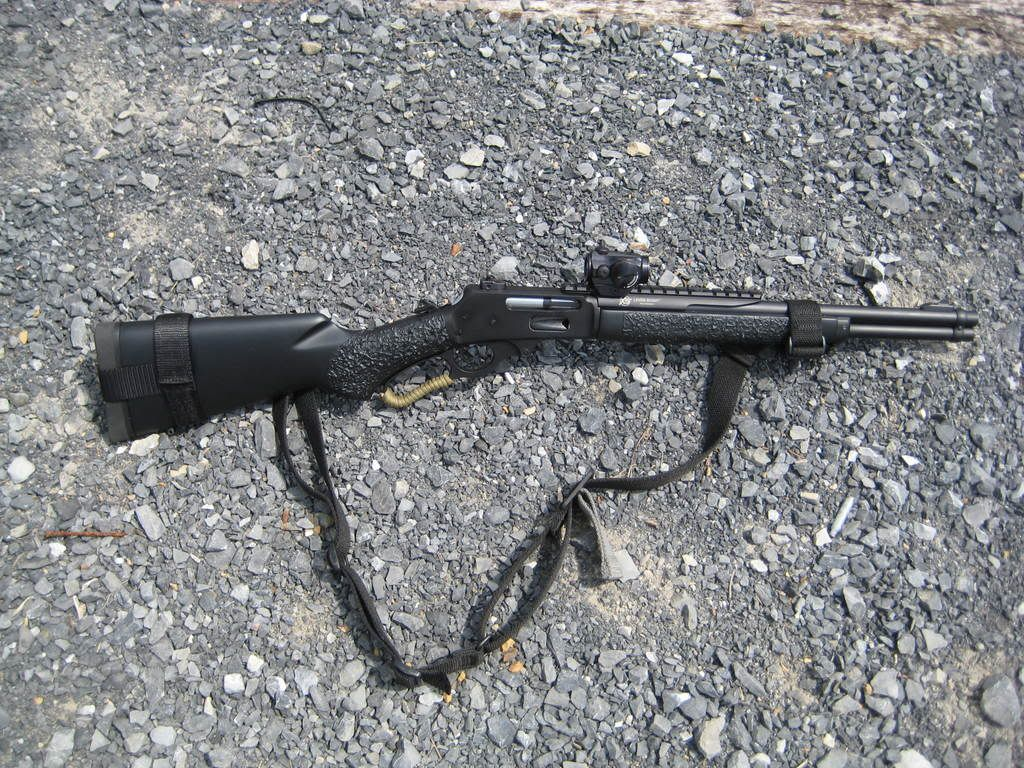Rifle: (84, 248, 980, 462)
